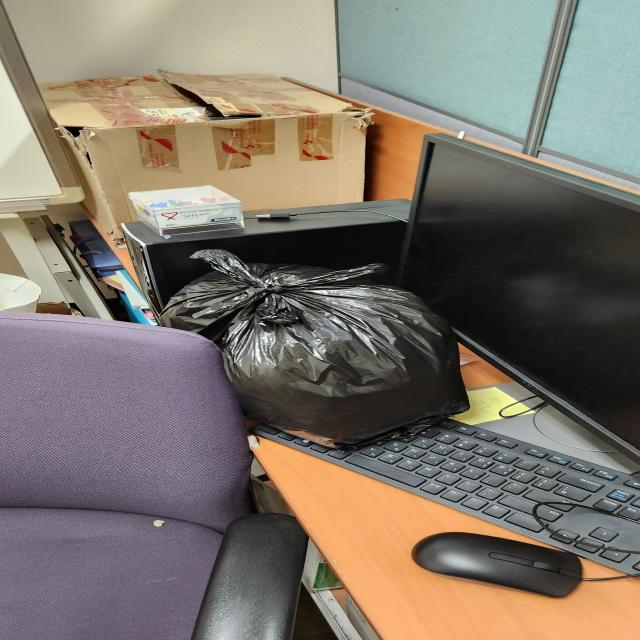black_bag: (159, 246, 471, 451)
